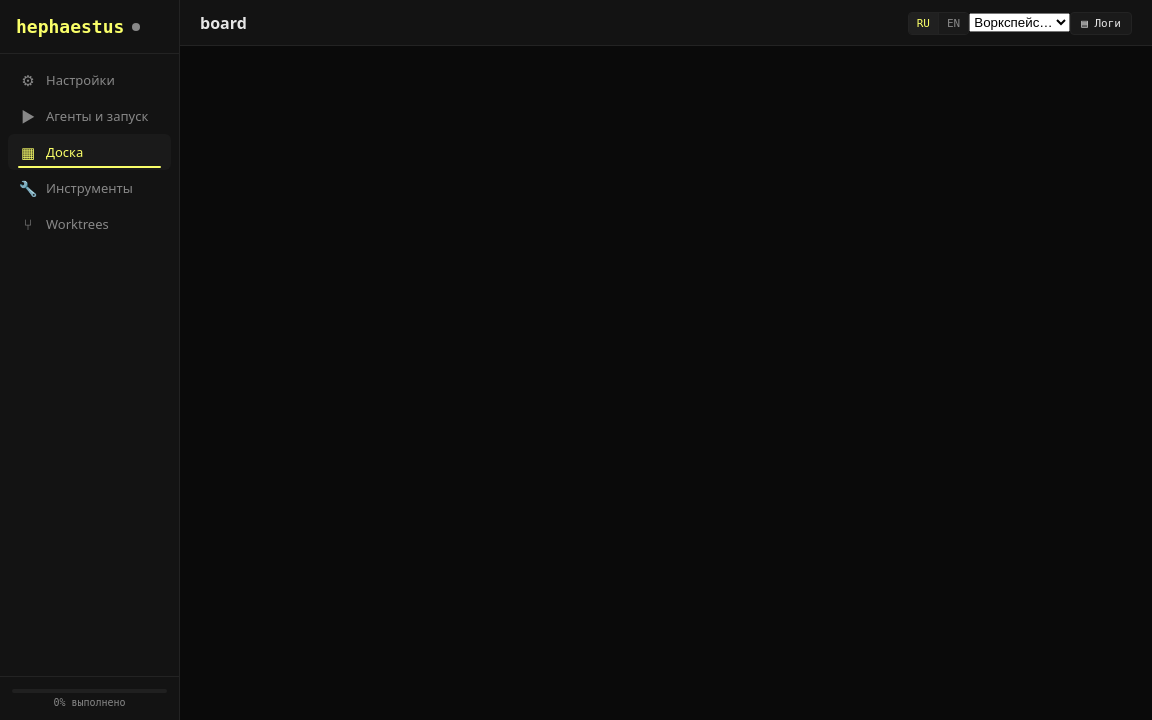
Test case: AppShell › logs toggle opens the logs drawer
Click the button with test id "logs-toggle" at x=1101, y=24, box [1070,12,1132,35]
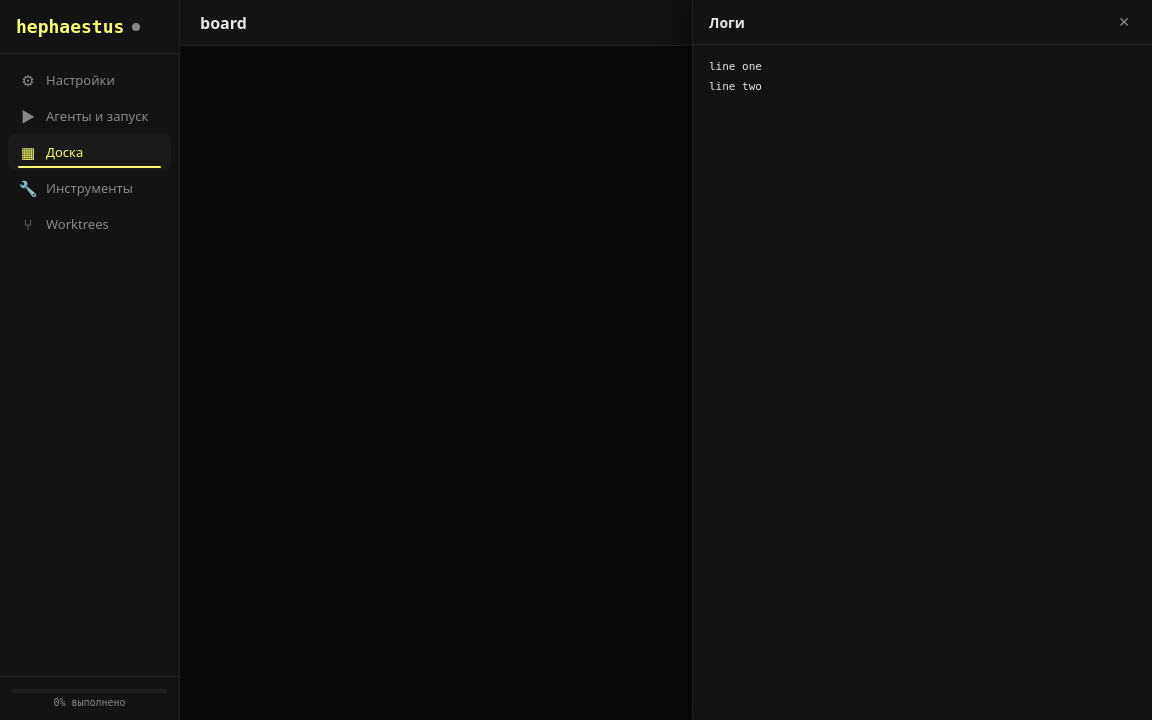
Check: the dialog with test id "logs-drawer" is shown, box [692,0,1151,719]
